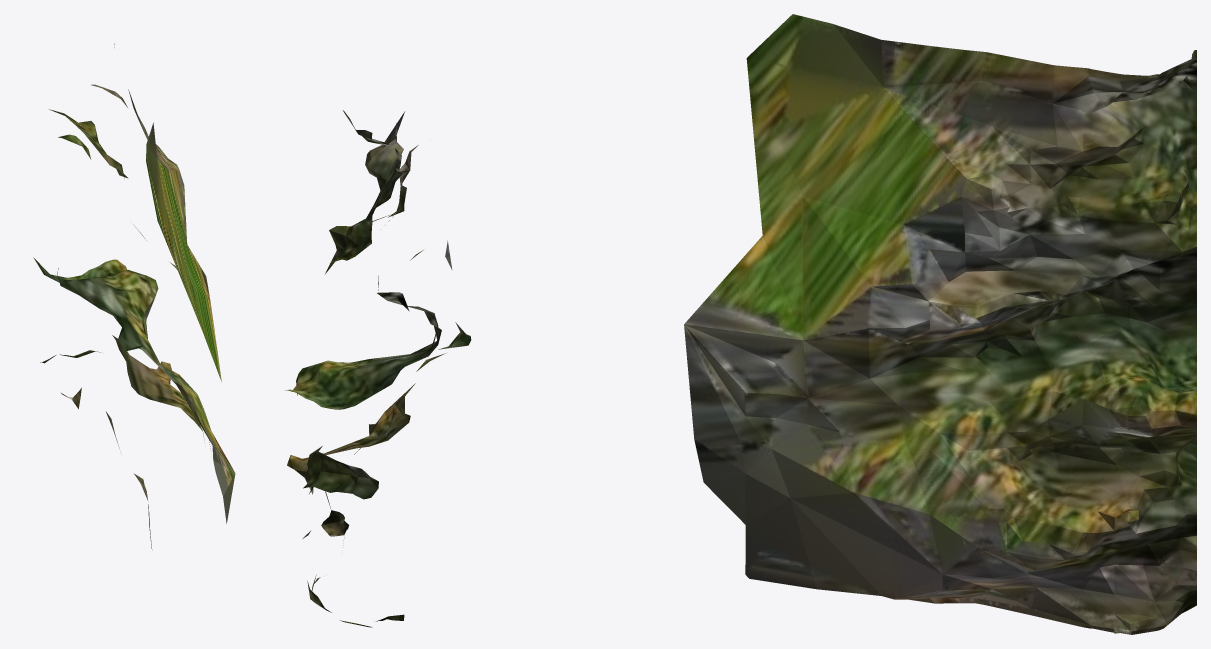
3 renders of one model, left to right at view 1: azimuth 30°, elevation 25°; view 2: azimuth 150°, elevation 25°; view 3: azimuth 270°, elevation 25°, orthographic. The views are drawn at different scales.
Bounding box in the file's own units: 1.34 × 3.35 × 2.88.
3 materials, 3 textured.
